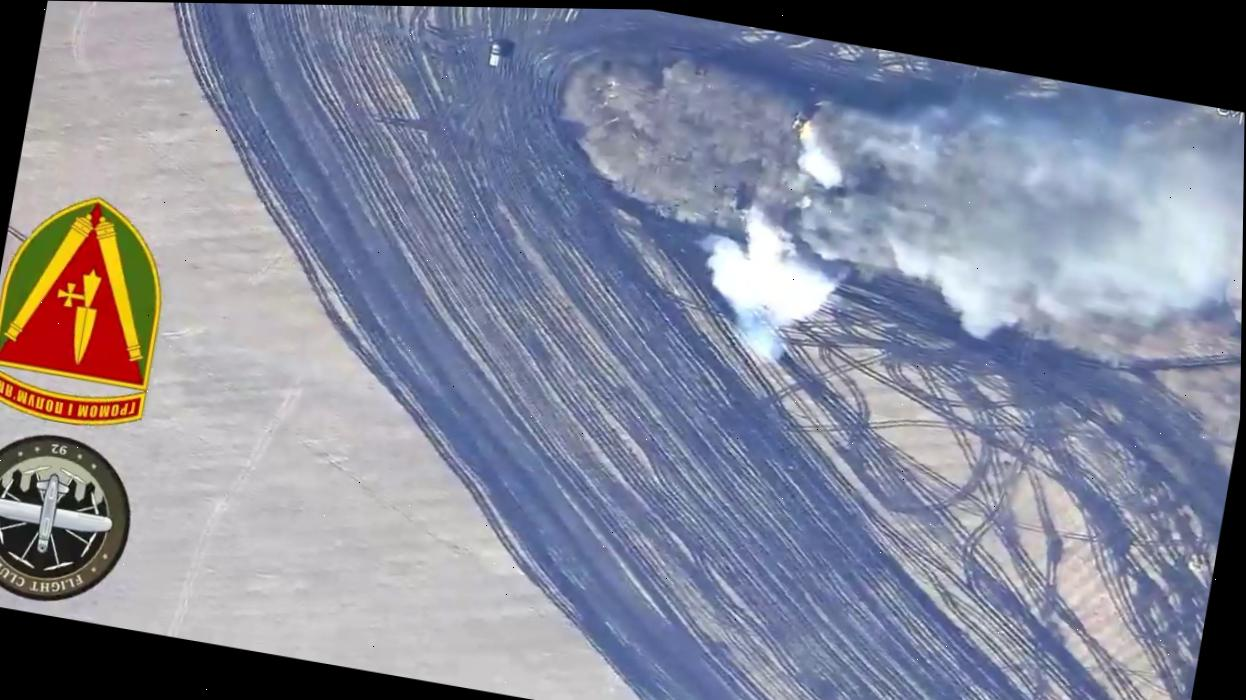vehicle: (488, 43, 505, 69)
